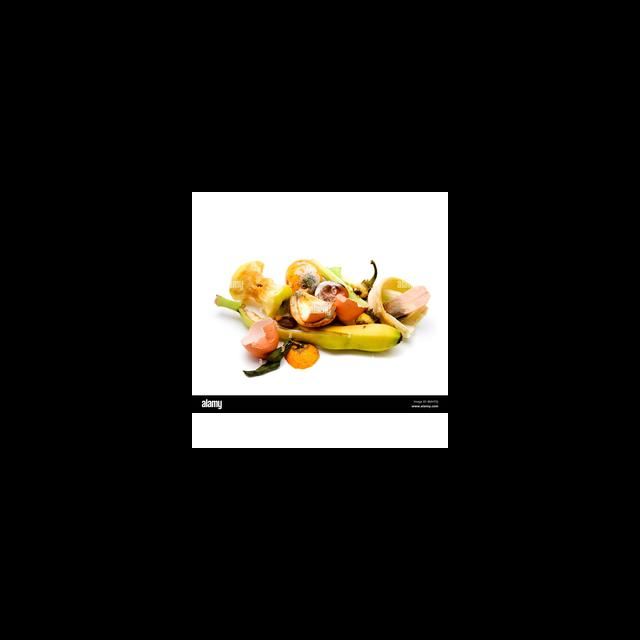food_waste: (212, 260, 429, 376)
